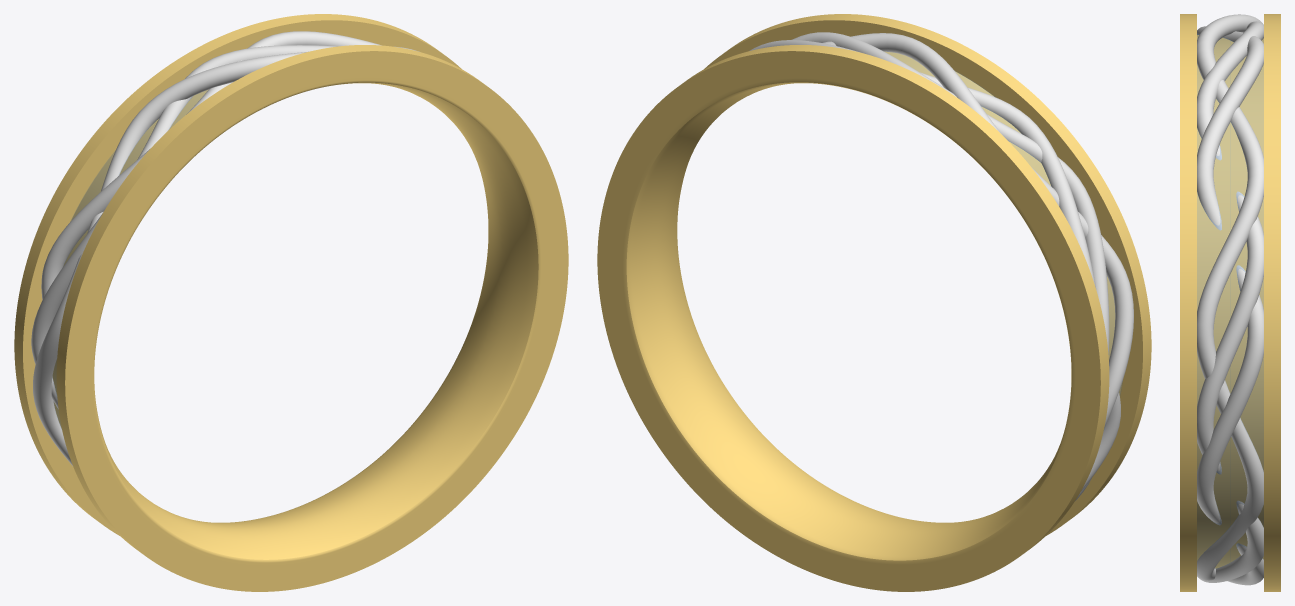
The model's file is RobertV3FullColorIt.glb.
3 views of the same model, side by side, from view 1: azimuth 30°, elevation 25°; view 2: azimuth 150°, elevation 25°; view 3: azimuth 270°, elevation 25° (orthographic).
Parts seen in each view (by area): view 1: V3 Robert YG for 3d model, V3 Robert PT for 3d model, V3 Robert color it; view 2: V3 Robert YG for 3d model, V3 Robert PT for 3d model, V3 Robert color it; view 3: V3 Robert YG for 3d model, V3 Robert PT for 3d model, V3 Robert color it.
Boxes of the visible parts, left/top/right/bottom form: V3 Robert YG for 3d model: left=14, top=14, right=568, bottom=591; V3 Robert PT for 3d model: left=31, top=31, right=419, bottom=465; V3 Robert color it: left=52, top=90, right=207, bottom=428; V3 Robert YG for 3d model: left=597, top=14, right=1151, bottom=591; V3 Robert PT for 3d model: left=749, top=32, right=1133, bottom=500; V3 Robert color it: left=885, top=51, right=1122, bottom=394; V3 Robert YG for 3d model: left=1180, top=14, right=1280, bottom=591; V3 Robert PT for 3d model: left=1197, top=14, right=1263, bottom=585; V3 Robert color it: left=1197, top=34, right=1263, bottom=568.
Bounding box in the file's own units: 24.69 × 24.65 × 4.3.
